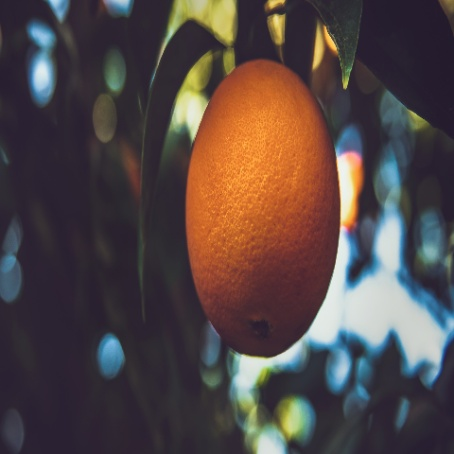orange: (170, 54, 372, 369)
